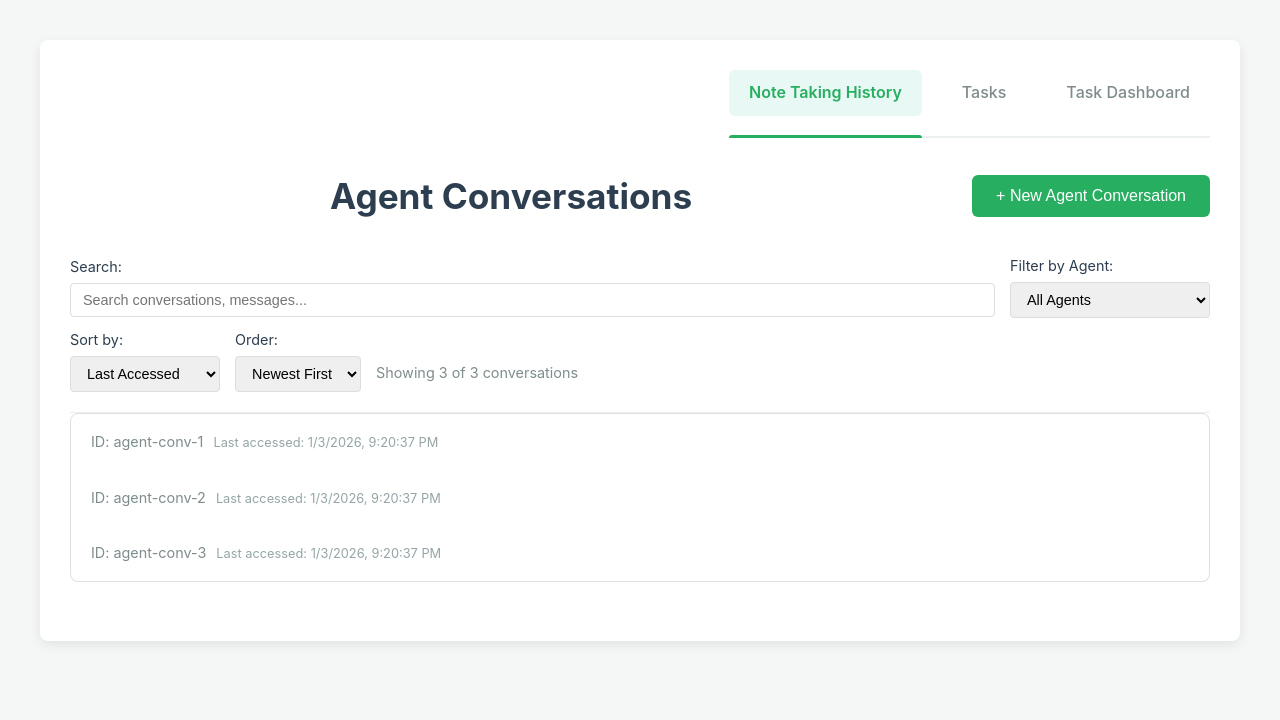
Test case: AgentConversationListView › Filtering › Agent dropdown filtering › shows all conversations when "All Agents" is selected
Expected: the text "ID: agent-conv-1" is shown, [91,433,203,450]
Note: Select agent-A first
Select "agent-A" in the dropdown labelled "Filter by Agent:" at (1110, 300), box [1010,282,1210,318]
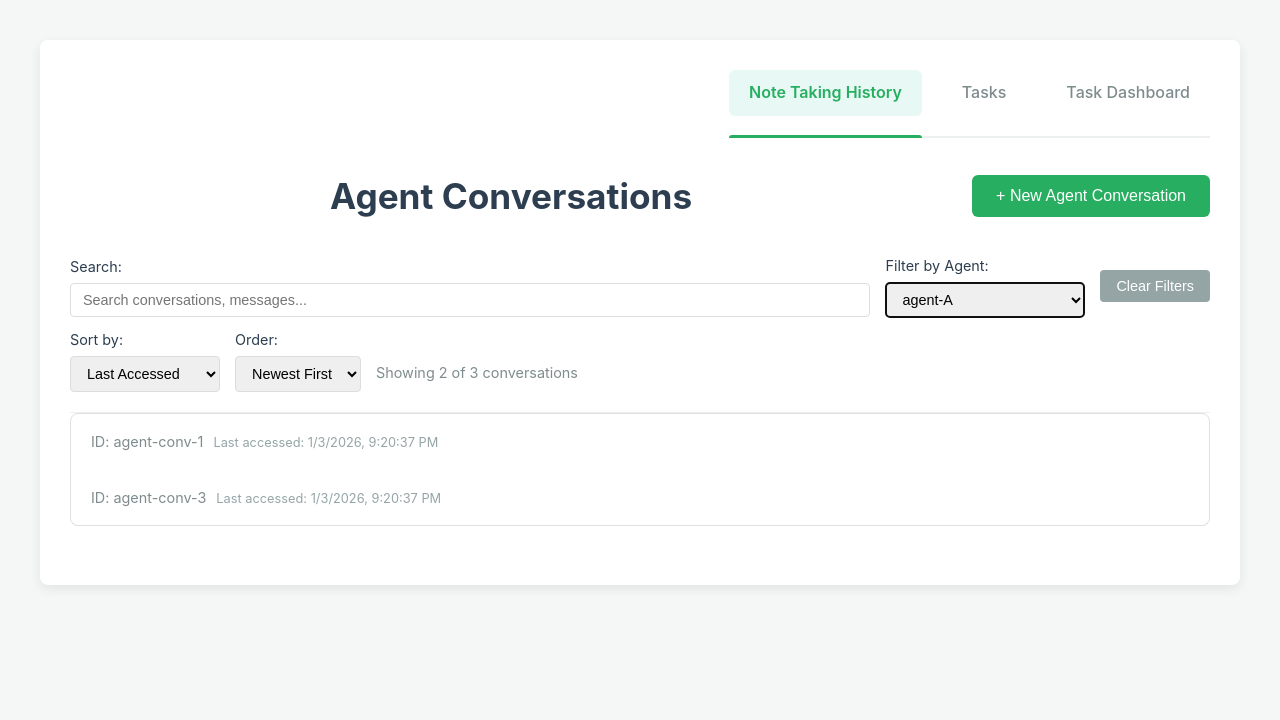
Expected: the link "ID: agent-conv-2" is gone
Note: Select "All Agents" to clear filter
Select "All Agents" in the dropdown labelled "Filter by Agent:" at (985, 300), box [885,282,1085,318]
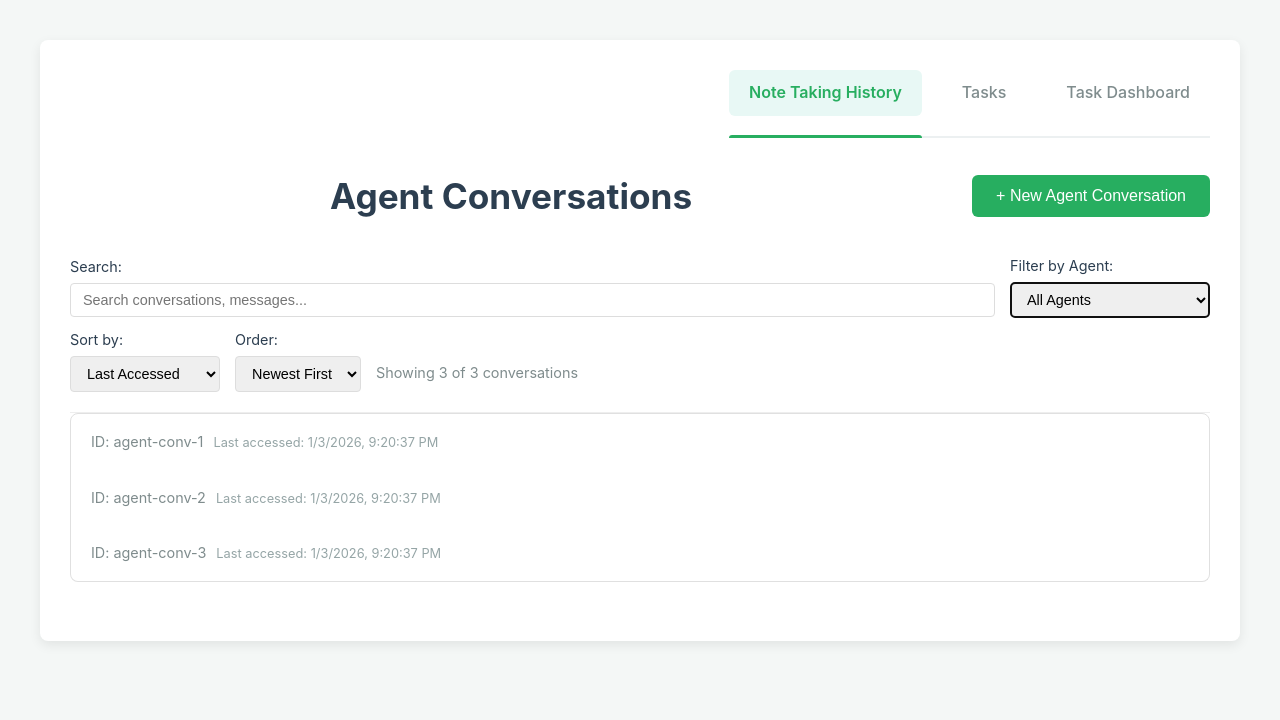
Expected: the text "ID: agent-conv-1" is shown, [91,433,203,450]
Expected: the text "ID: agent-conv-2" is shown, [91,489,206,506]
